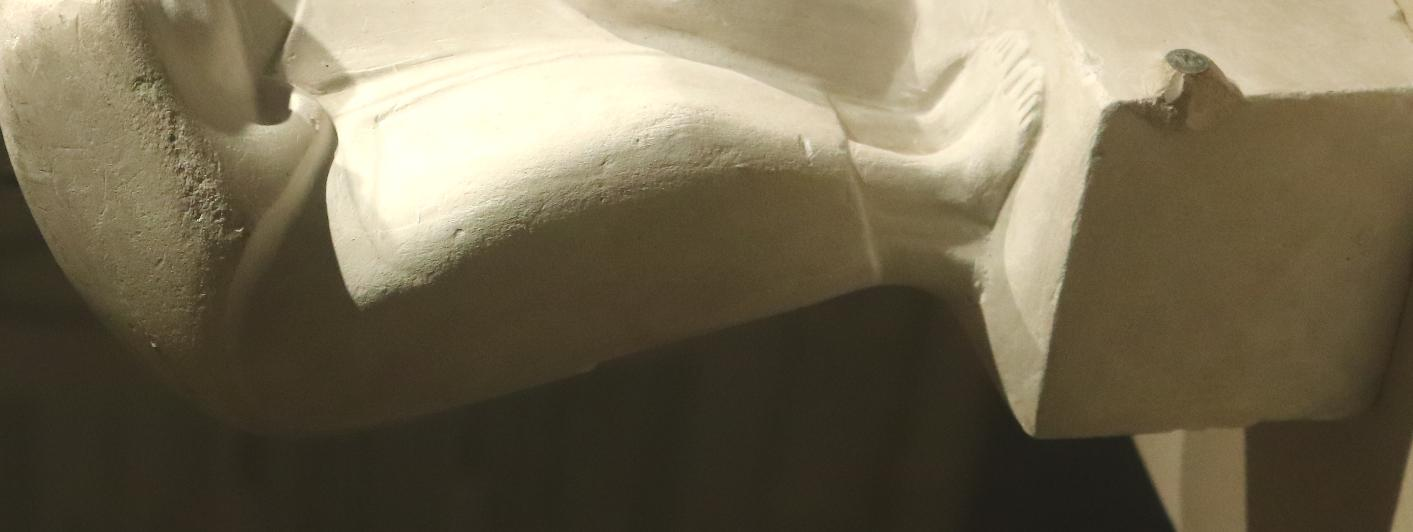the_female_peasent: (0, 0, 620, 320)
